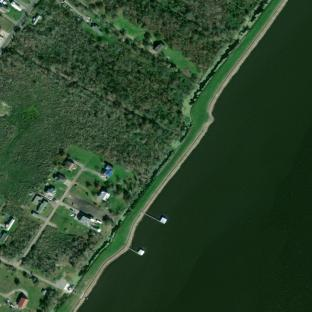Floresta: (11, 0, 190, 174), (86, 0, 260, 70), (39, 287, 59, 312)
